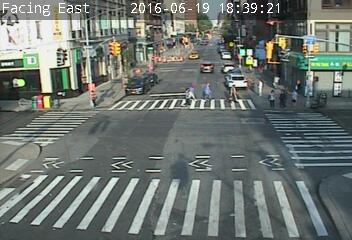neg: (324, 109, 347, 139), (290, 154, 311, 182), (64, 17, 80, 39), (142, 12, 158, 34), (162, 169, 178, 191), (92, 145, 108, 166), (135, 88, 151, 109), (237, 129, 252, 149), (233, 18, 248, 38), (320, 72, 335, 91), (310, 34, 324, 53), (197, 176, 211, 195), (121, 160, 135, 178), (66, 161, 80, 179), (160, 106, 174, 124), (324, 161, 338, 178), (263, 121, 276, 139), (49, 115, 62, 132), (40, 63, 53, 80), (279, 27, 292, 44), (97, 107, 110, 124), (244, 183, 256, 200), (146, 129, 158, 145), (128, 195, 140, 211), (77, 120, 89, 135), (35, 180, 47, 195), (117, 119, 129, 134), (180, 16, 191, 32), (163, 61, 174, 76), (294, 114, 305, 128), (195, 129, 205, 143), (172, 133, 182, 147), (102, 23, 112, 36), (83, 190, 93, 203), (254, 46, 264, 59), (184, 49, 194, 61), (304, 10, 313, 22), (39, 145, 47, 156), (207, 45, 215, 56), (165, 25, 173, 35), (207, 60, 214, 70)
pos: (199, 79, 216, 102), (225, 81, 241, 103), (274, 87, 289, 107), (264, 88, 278, 107), (287, 88, 301, 106), (181, 86, 194, 104), (88, 88, 99, 103)
